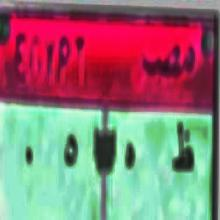0: (22, 141, 35, 172)
5: (60, 133, 81, 171)
Thaa: (171, 117, 196, 180)
haa: (124, 138, 136, 176)
